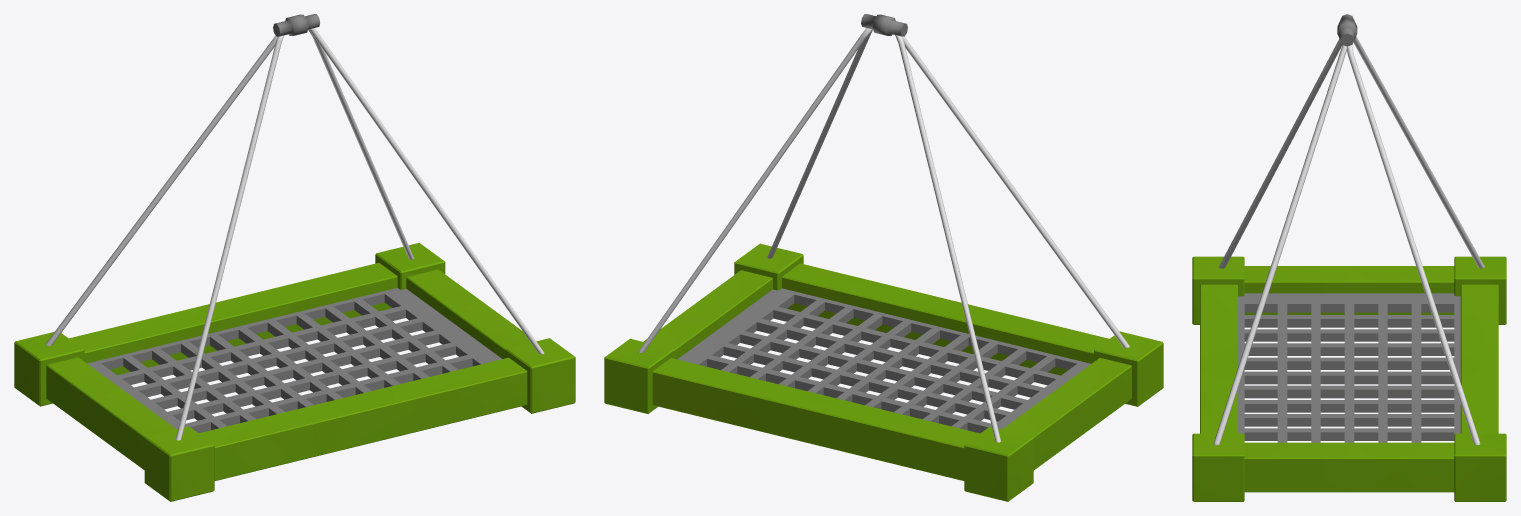
The model's file is HangingPlatformGreen.fbx.
The picture shows the model from 3 angles, left to right: view 1: azimuth 30°, elevation 25°; view 2: azimuth 150°, elevation 25°; view 3: azimuth 270°, elevation 25°; orthographic projection.
Parts seen in each view (by area): view 1: Cube.003, Grate, Cylinder, HangingPlatform; view 2: Cube.003, Grate, Cylinder, HangingPlatform; view 3: Cube.003, Grate, Cylinder, HangingPlatform.
Part boxes in pixels (box(x1,y1,x2,y2)): Cube.003: box(14, 242, 575, 501); Grate: box(87, 288, 502, 433); Cylinder: box(45, 28, 544, 440); HangingPlatform: box(273, 14, 320, 36); Cube.003: box(604, 243, 1163, 501); Grate: box(677, 288, 1090, 433); Cylinder: box(638, 28, 1129, 442); HangingPlatform: box(861, 14, 907, 36); Cube.003: box(1192, 256, 1506, 501); Grate: box(1238, 293, 1460, 442); Cylinder: box(1213, 36, 1484, 445); HangingPlatform: box(1337, 14, 1357, 46).
Bounding box in the file's own units: 5.62 × 5.03 × 3.75.
